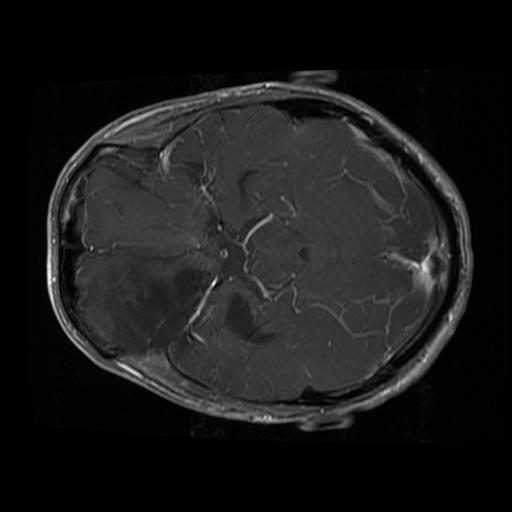glioma: (86, 255, 214, 358)
